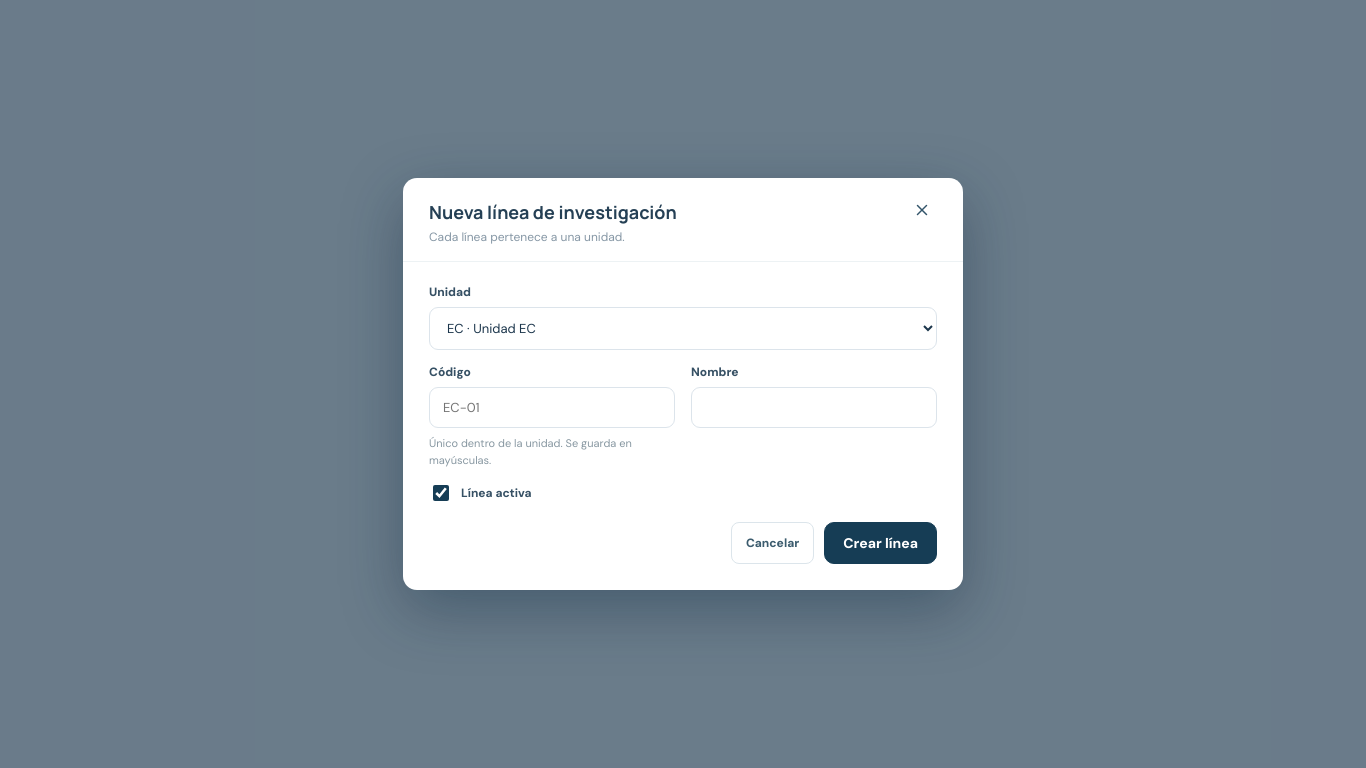
it: LineFormModal › muestra los errores del servidor junto a cada campo
Type "L9" into the field labelled "Código Único dentro de la unidad. Se guarda en mayúsculas." at coordinates (552, 408), box top-left (429, 387), bottom-right (675, 428)
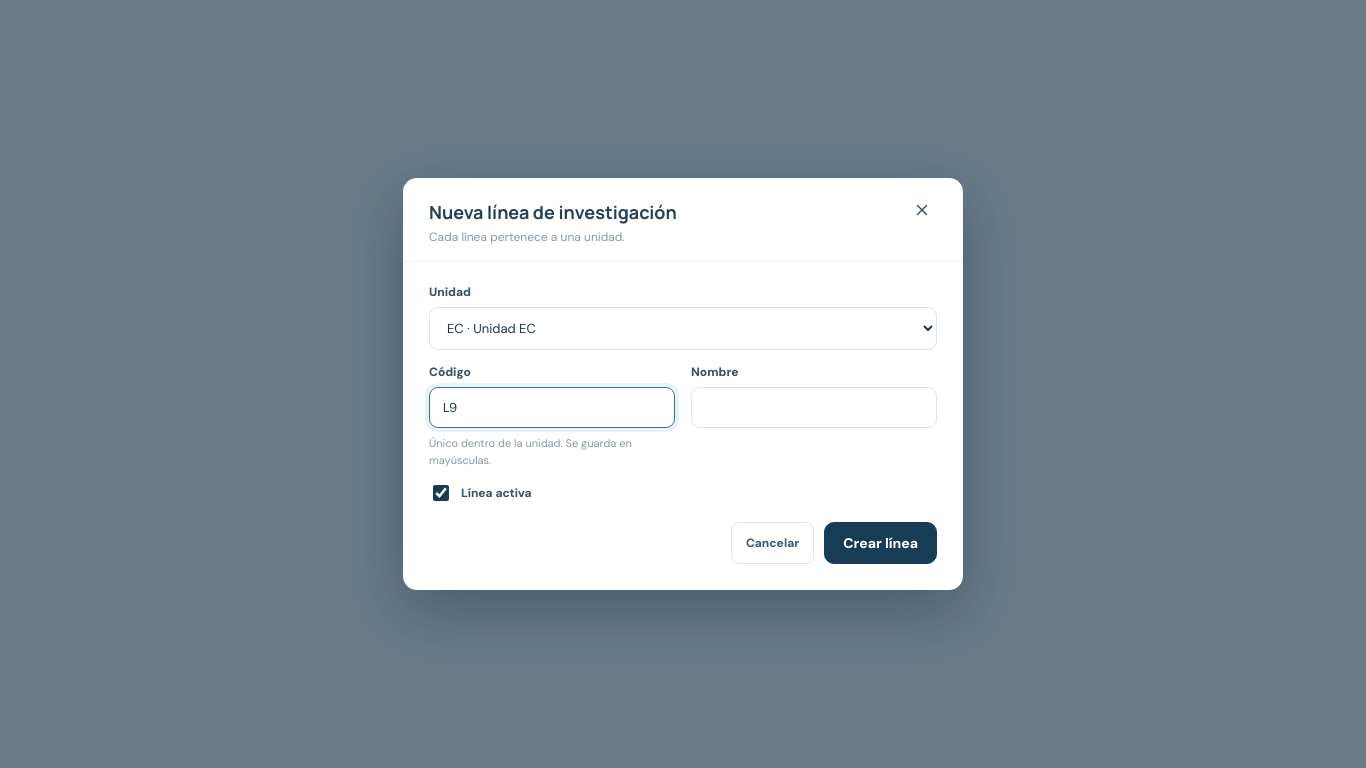
Type "Repetida" into the field labelled "Nombre" at coordinates (814, 408), box top-left (691, 387), bottom-right (937, 428)
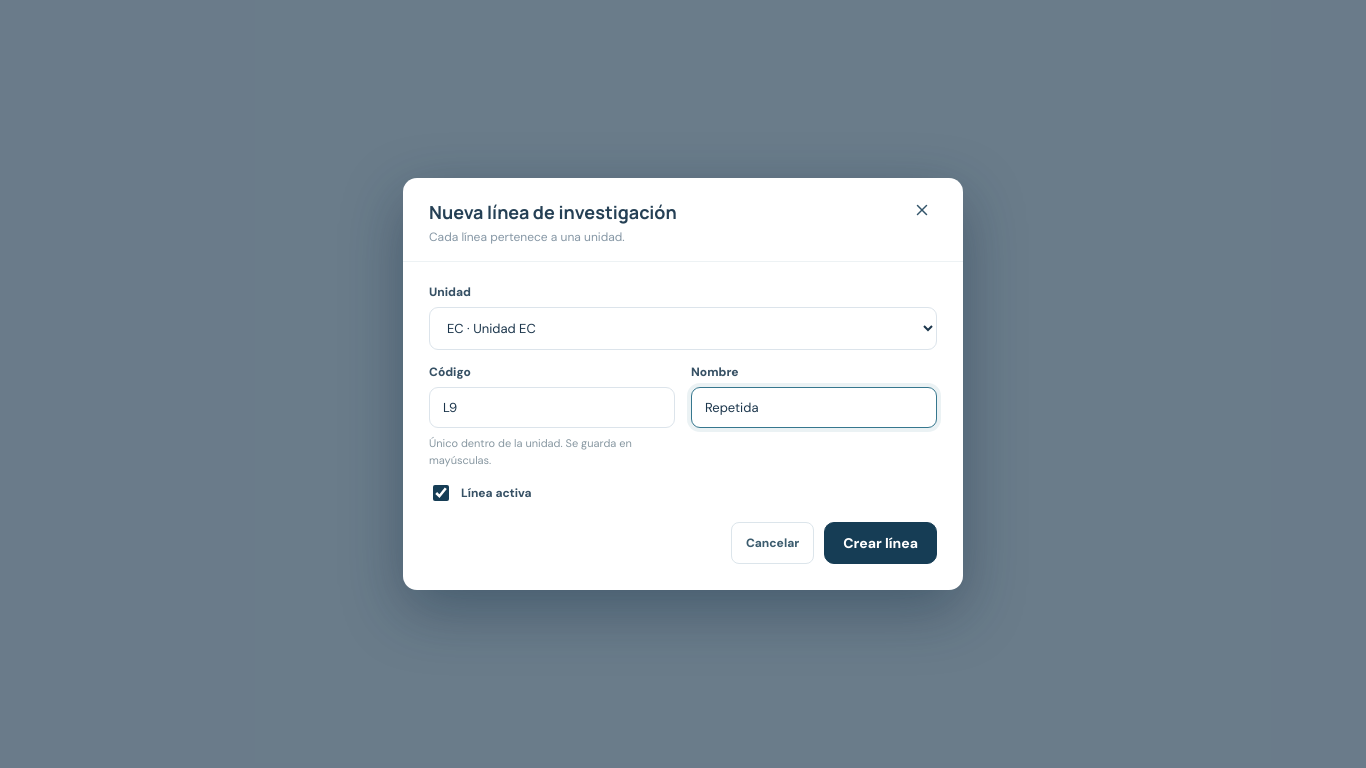
Click the button "Crear línea" at coordinates (881, 543), box top-left (824, 522), bottom-right (937, 564)
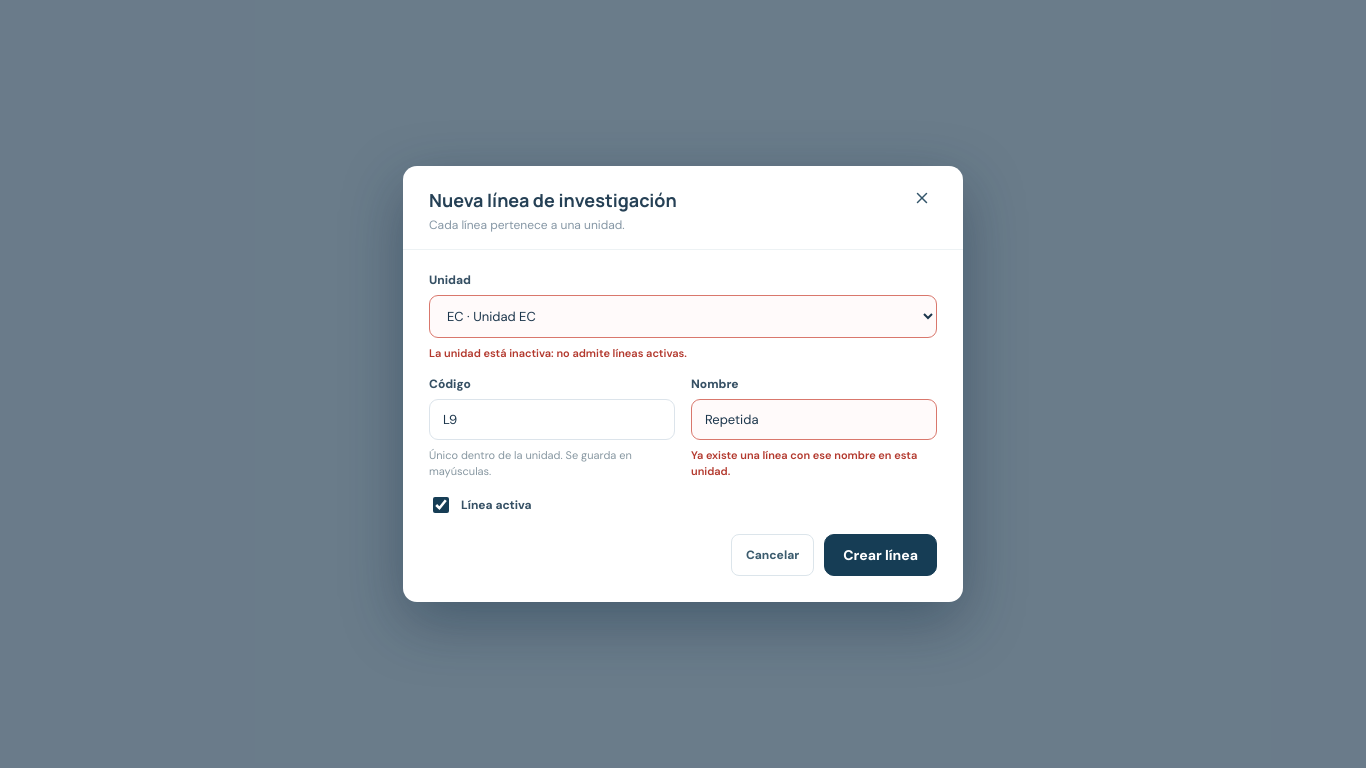
expect the text "Ya existe una línea con ese nombre en esta unidad." is shown: met, box top-left (691, 447), bottom-right (937, 480)
expect the text "La unidad está inactiva: no admite líneas activas." is shown: met, box top-left (429, 346), bottom-right (687, 360)
